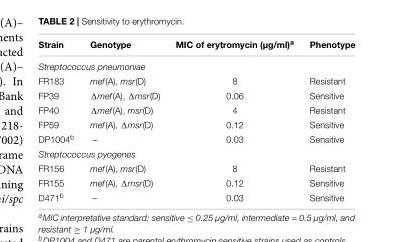table: (37, 37, 354, 202)
table column: (167, 37, 300, 202), (81, 37, 167, 202), (300, 37, 354, 202), (37, 37, 81, 202)
table column header: (37, 37, 354, 54)
table projected row header: (37, 54, 354, 72), (37, 145, 354, 160)
table row: (37, 54, 354, 72), (37, 37, 354, 54), (37, 72, 354, 87), (37, 87, 354, 102), (37, 130, 354, 145), (37, 145, 354, 160), (37, 102, 354, 116), (37, 116, 354, 130), (37, 160, 354, 174), (37, 174, 354, 188), (37, 188, 354, 202)
